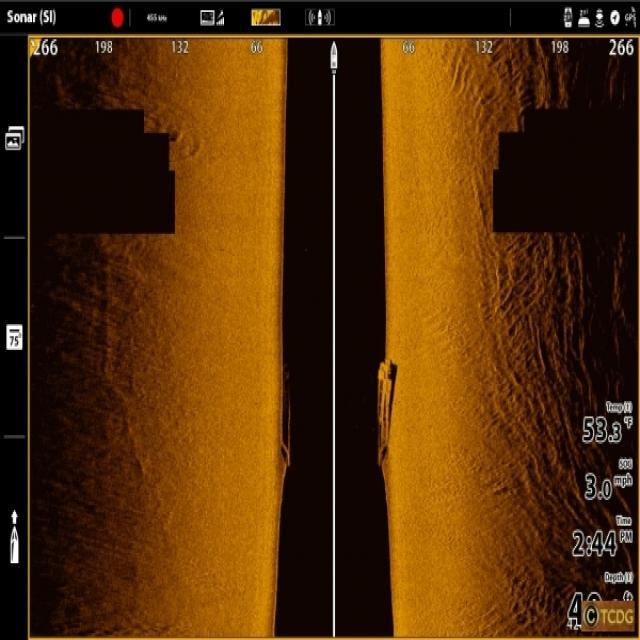shipwreck: (371, 352, 403, 469)
